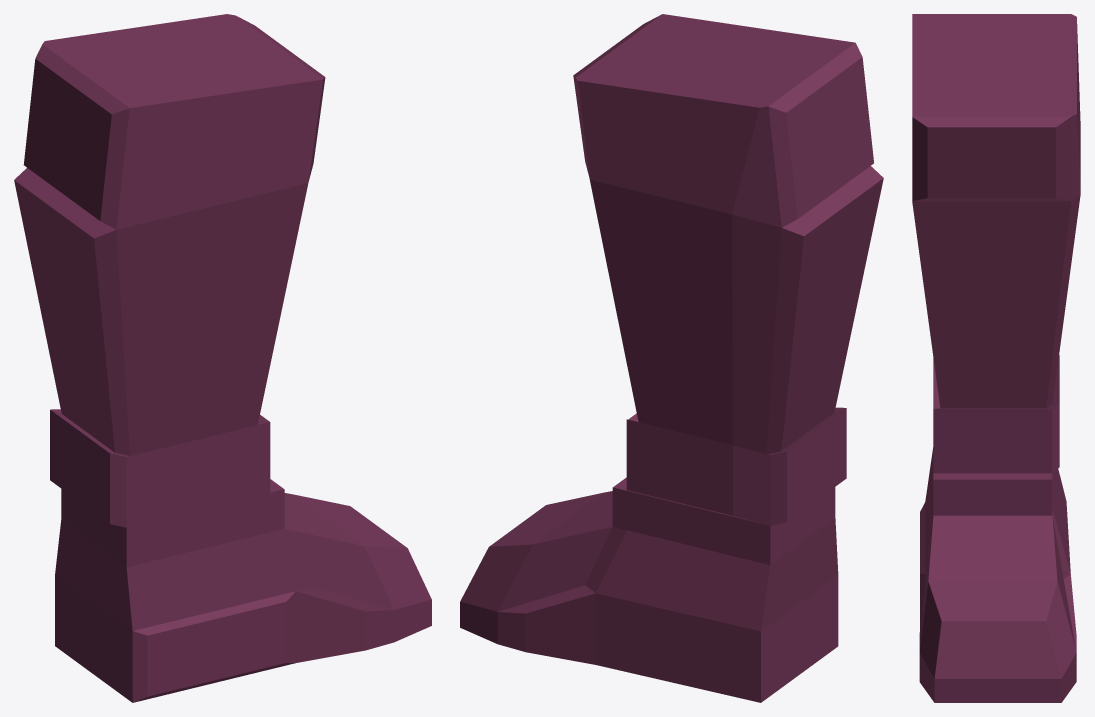
File: hidariashi.obj
The picture shows the model from 3 angles, left to right: view 1: azimuth 30°, elevation 25°; view 2: azimuth 150°, elevation 25°; view 3: azimuth 270°, elevation 25°; orthographic projection. The views are drawn at different scales.
Visible parts, largest first — view 1: pCube8 pCube9; view 2: pCube8 pCube9; view 3: pCube8 pCube9.
Boxes of the visible parts, x1,y1,x2,y2 form: pCube8 pCube9: [14, 14, 431, 702]; pCube8 pCube9: [460, 14, 883, 702]; pCube8 pCube9: [912, 14, 1080, 702].
Size of the model in its own units: 0.9872 by 1.64 by 0.4571.
1 material, 1 textured.
